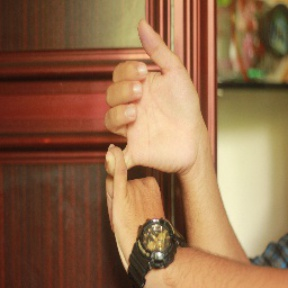S: (90, 16, 195, 257)
